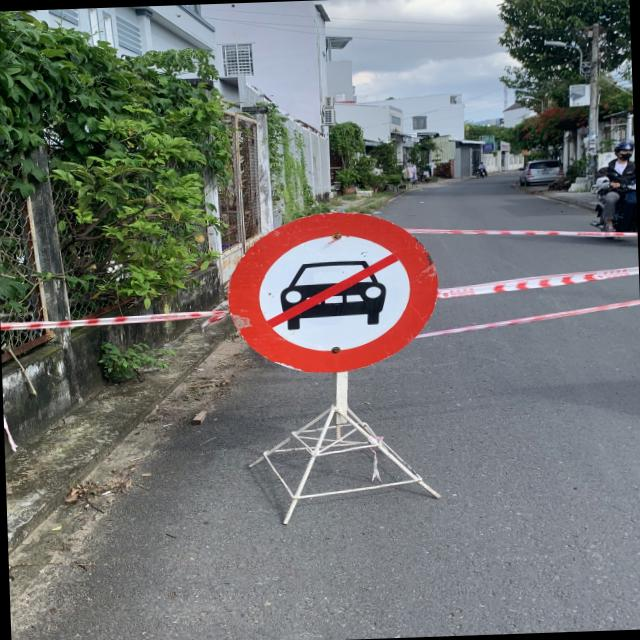Cam_O_To: (219, 206, 447, 380)
